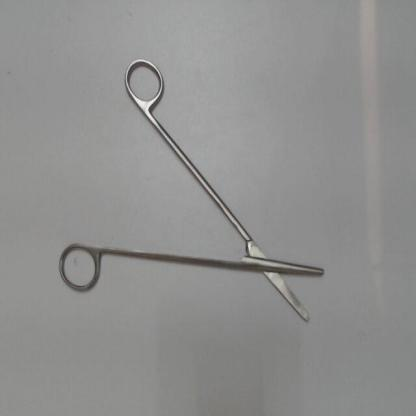9 Metzenbaum Scissors: (55, 50, 326, 328)
